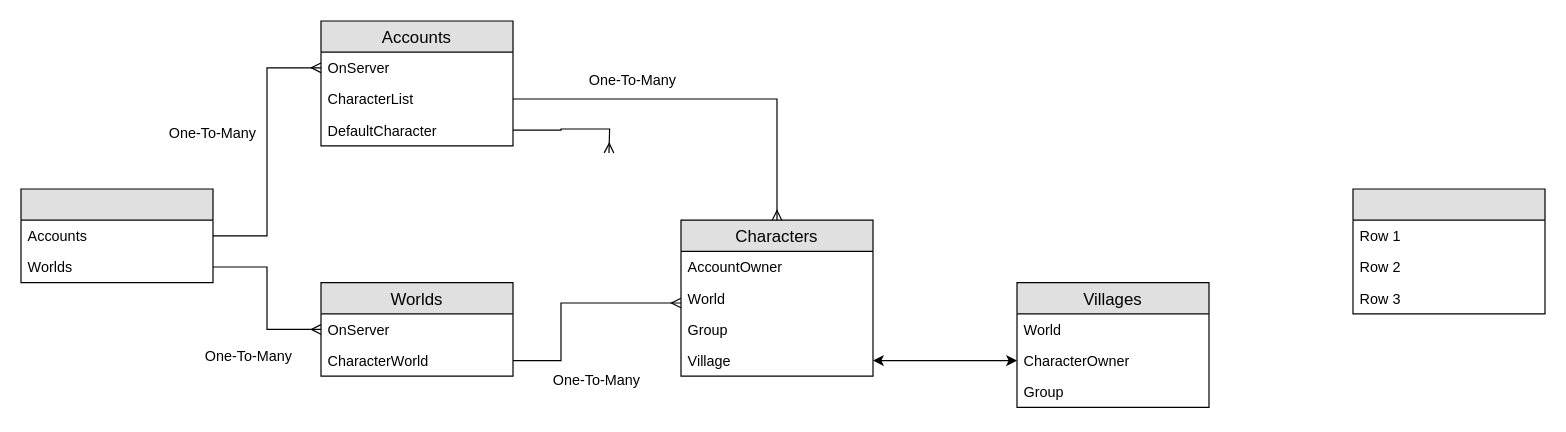
Some shapes in this 1566 by 432 pixel diagram are drawn without their labels. Here are the shapes that lost their labels. From the top down, the box of each, then its label:
(20, 188, 213, 283): Servers
(1352, 188, 1545, 314): Players
